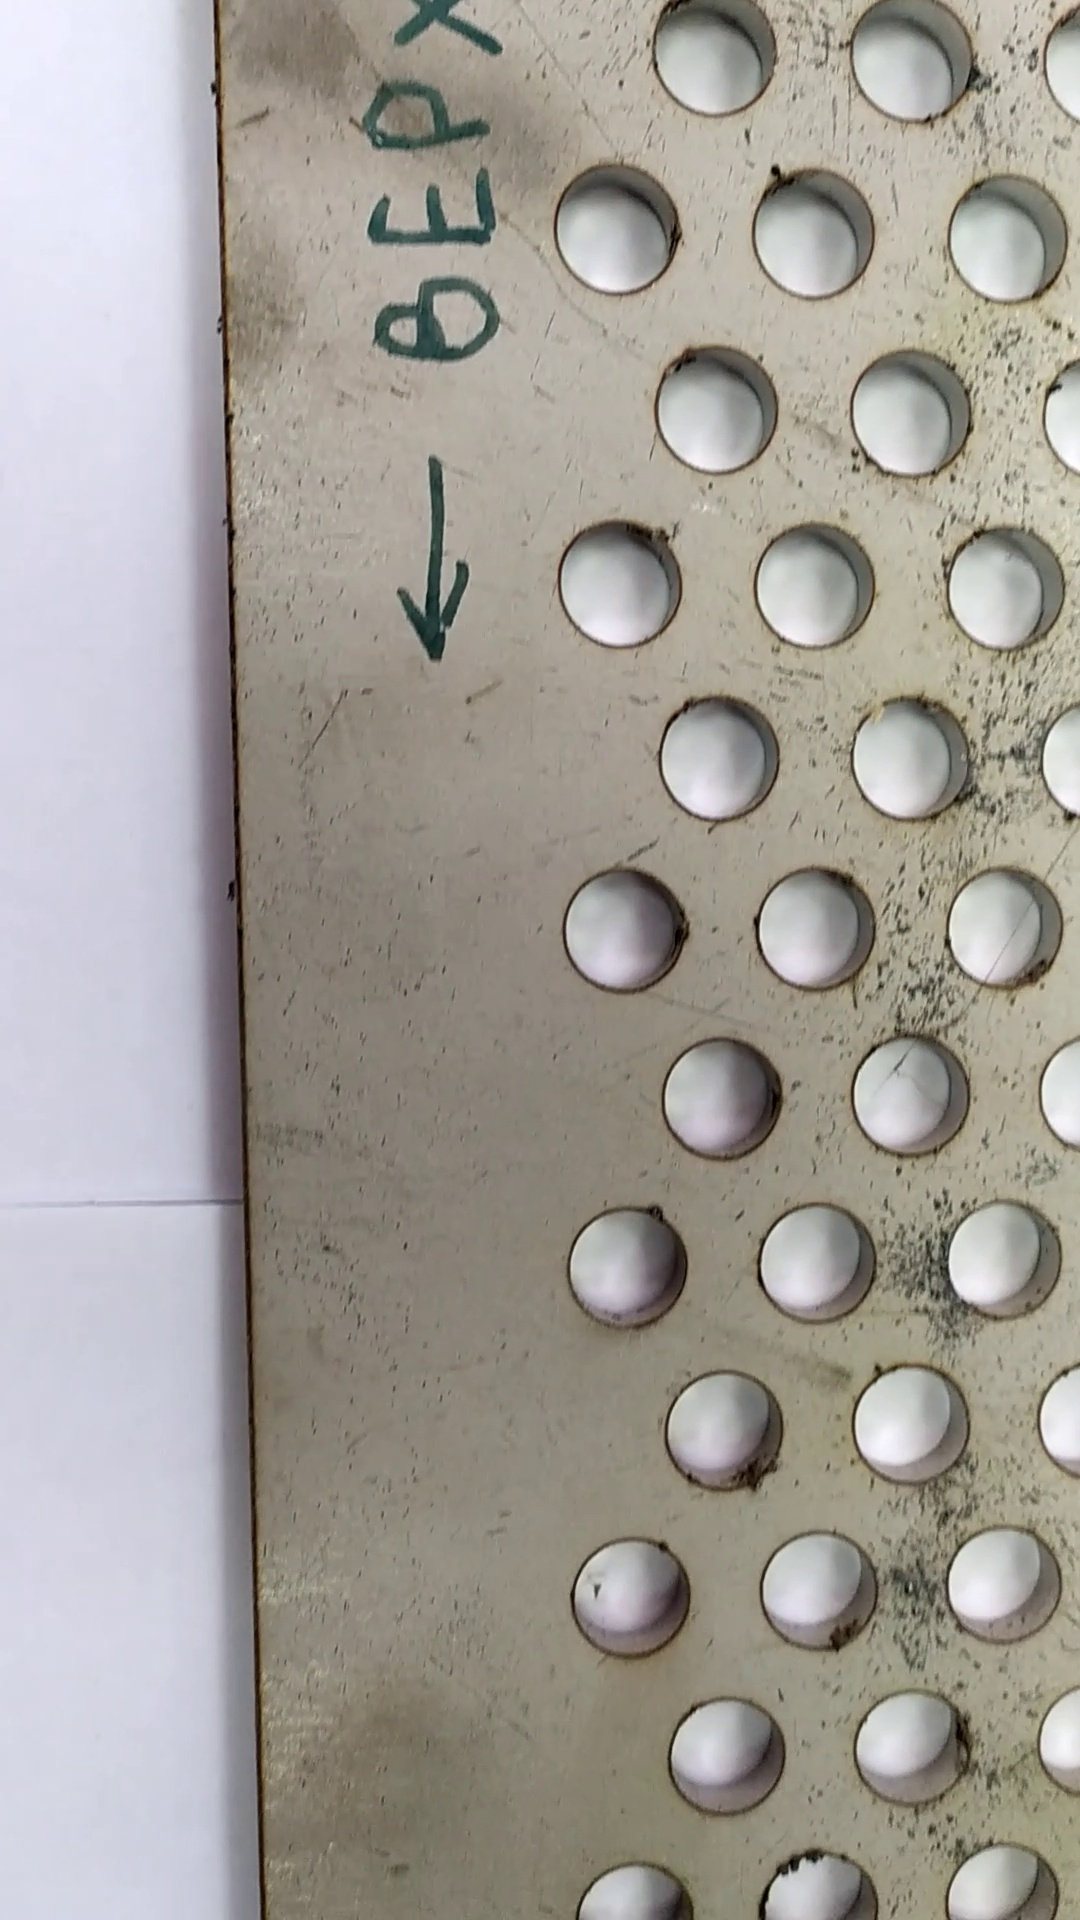Hole: (534, 150, 702, 309), (641, 334, 794, 487), (738, 150, 887, 307), (924, 509, 1077, 659), (541, 858, 696, 1004), (741, 1515, 891, 1664), (559, 1524, 712, 1668), (651, 1685, 800, 1830), (547, 509, 694, 654), (843, 1017, 981, 1170), (934, 164, 1077, 307), (651, 1029, 796, 1171), (837, 338, 977, 485), (745, 512, 885, 659), (551, 1199, 696, 1340), (745, 855, 887, 997), (651, 1358, 794, 1499), (932, 856, 1071, 1001), (749, 1193, 887, 1338), (845, 676, 975, 829), (845, 1352, 982, 1493), (647, 688, 787, 824), (926, 1519, 1071, 1646), (934, 1195, 1075, 1324), (845, 1677, 978, 1813)
